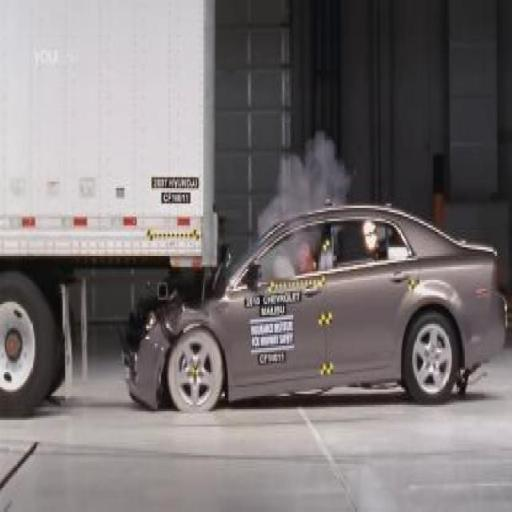小汽车撞小汽车: (2, 86, 512, 398)
